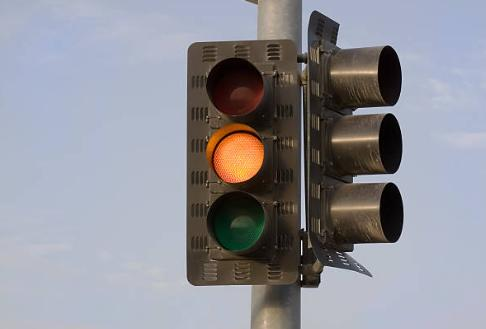yellow_light: (187, 39, 301, 286)
